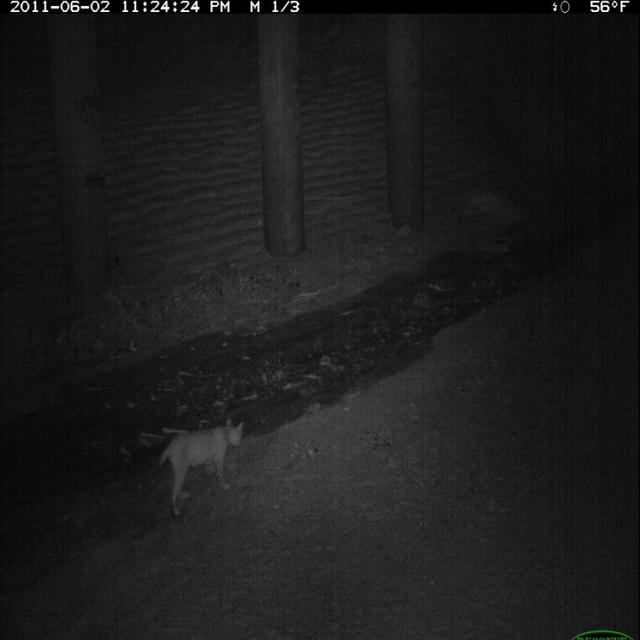bobcat: (155, 418, 247, 522)
